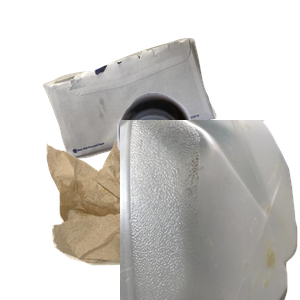glass: (115, 90, 300, 270)
paper: (40, 35, 249, 187)
plastic: (120, 120, 300, 300)
trash: (44, 136, 277, 300)
